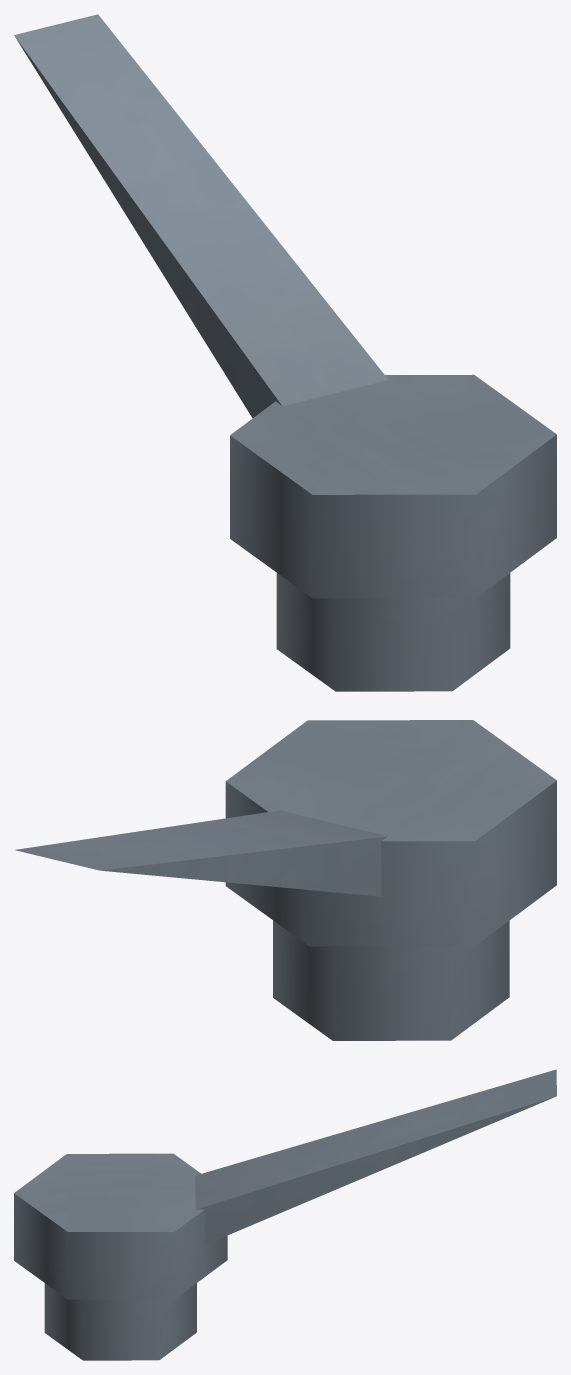
The model's file is Manija_Washbasin_06.glb.
The picture shows the model from 3 angles, top to bottom: view 1: azimuth 30°, elevation 25°; view 2: azimuth 150°, elevation 25°; view 3: azimuth 270°, elevation 25°; orthographic projection. The views are drawn at different scales.
Parts seen in each view (by area): view 1: Manija_Washbasin_06; view 2: Manija_Washbasin_06; view 3: Manija_Washbasin_06.
Boxes of the visible parts, x1=… form: Manija_Washbasin_06: x1=14, y1=14, x2=556, y2=691; Manija_Washbasin_06: x1=15, y1=720, x2=556, y2=1040; Manija_Washbasin_06: x1=14, y1=1069, x2=556, y2=1360.
Bounding box in the file's own units: 0.0275 × 0.0406 × 0.0804.
Materials: 1 (1 with a texture image).
